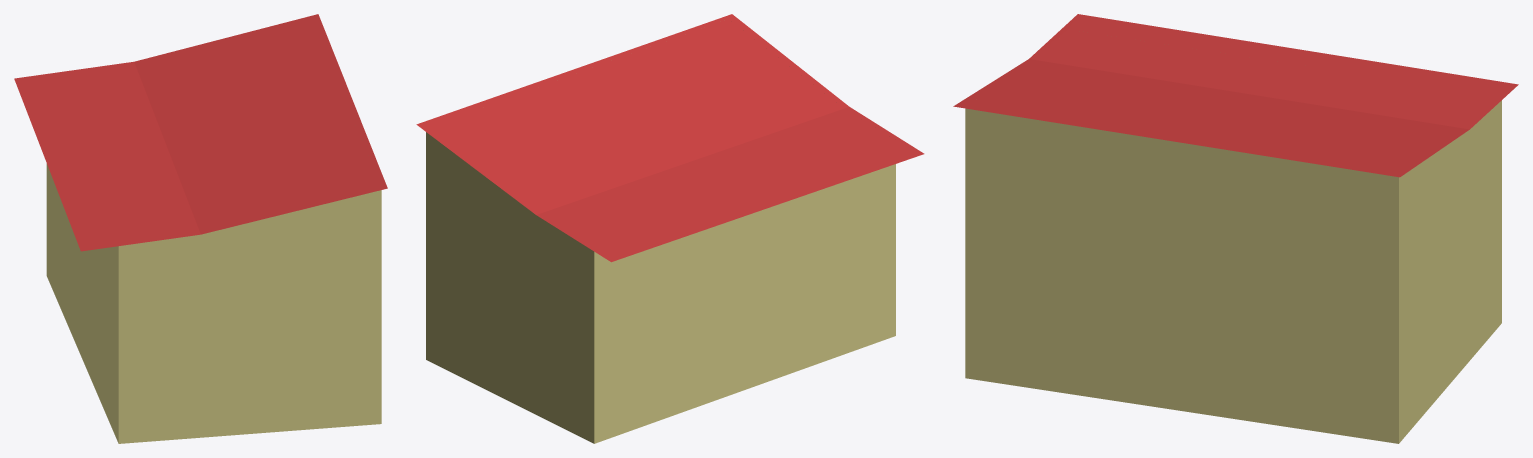
3 views of the same model, side by side, from view 1: azimuth 30°, elevation 25°; view 2: azimuth 150°, elevation 25°; view 3: azimuth 270°, elevation 25° (orthographic). The views are drawn at different scales.
Bounding box in the file's own units: 15.42 × 17.52 × 9.3.
